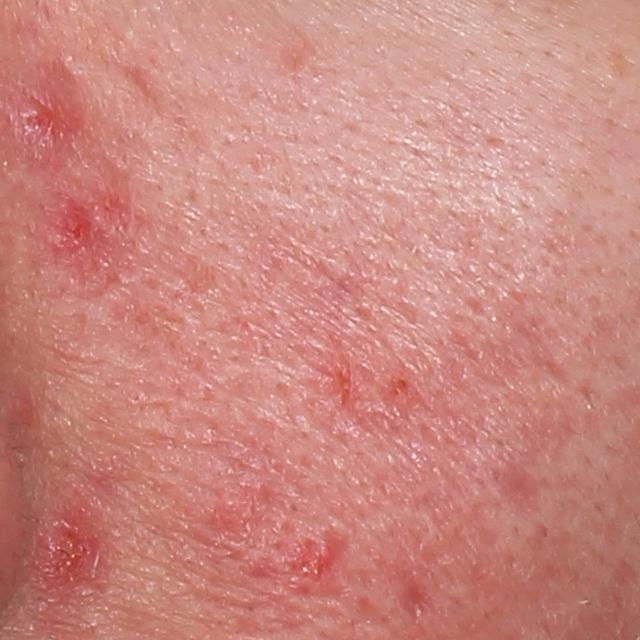atrophic_scar: (490, 460, 549, 523), (396, 577, 443, 629)
melasma: (605, 44, 638, 85)
papule: (6, 84, 81, 156), (31, 514, 99, 592), (40, 196, 98, 260), (300, 533, 339, 582)
